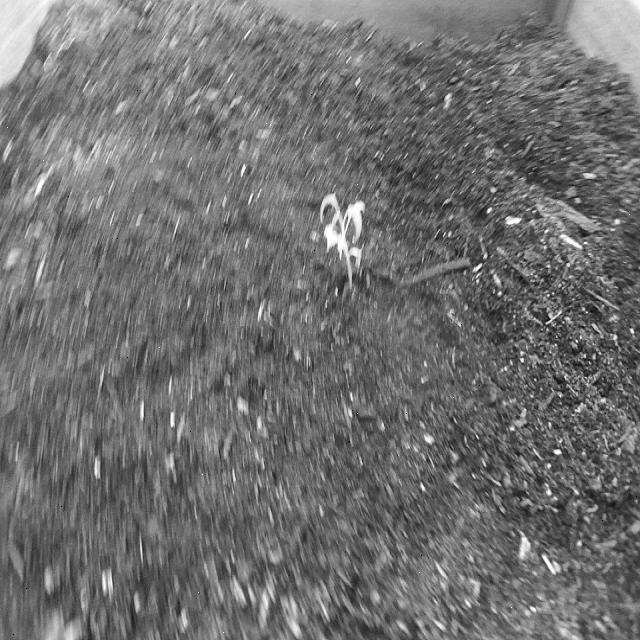Healthy: (316, 188, 369, 295)
